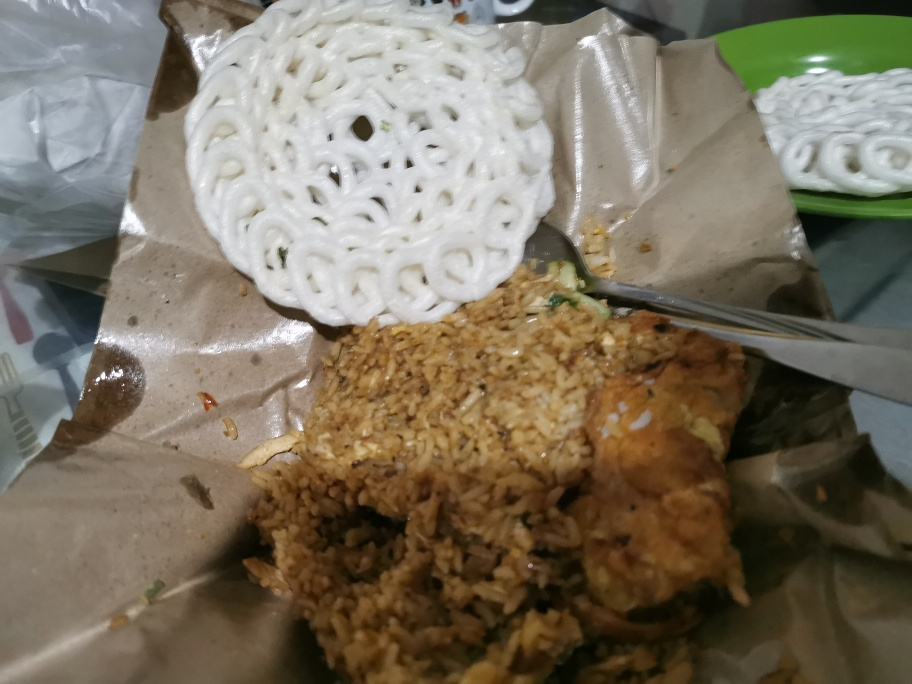kerupuk: (189, 1, 549, 322)
nasi goreng: (267, 322, 749, 684)
